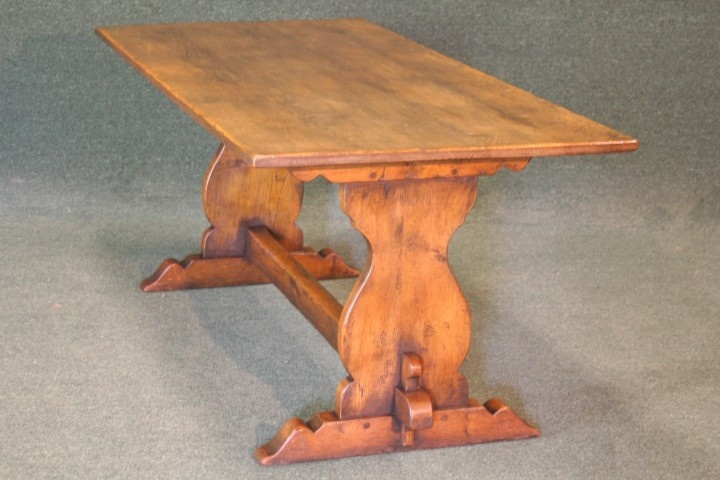obstacle: (98, 19, 637, 464)
